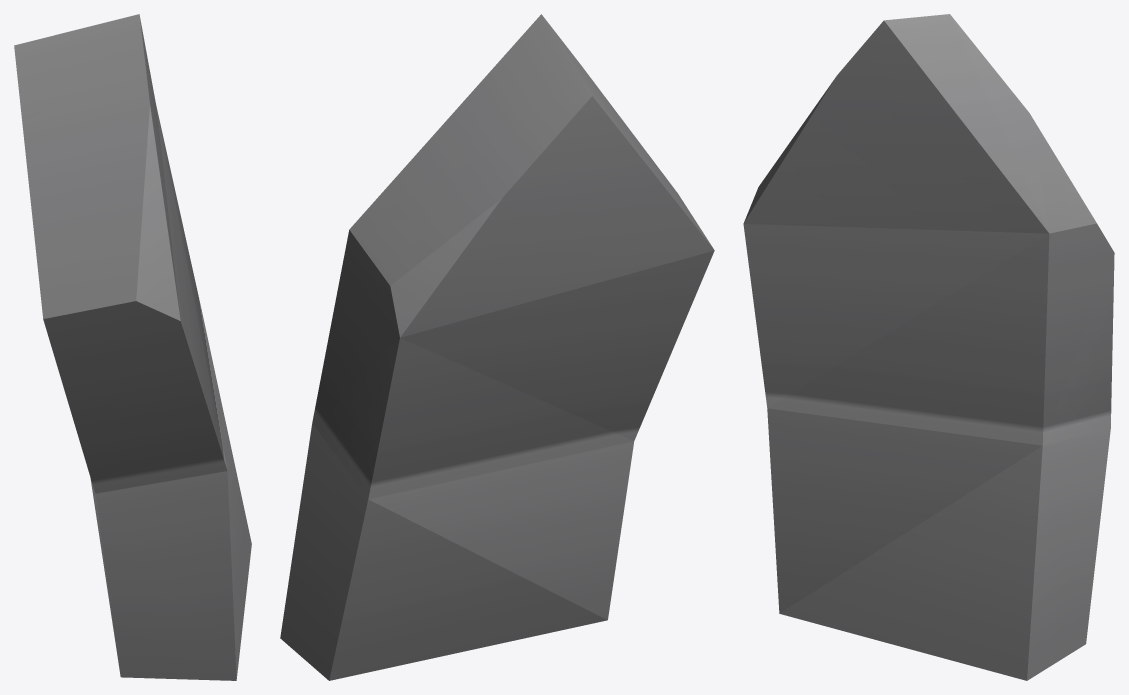
Rendered from ea_grave_stone_mini_01c_pre__7__lev1.glb.
3 renders of one model, left to right at view 1: azimuth 30°, elevation 25°; view 2: azimuth 150°, elevation 25°; view 3: azimuth 270°, elevation 25°, orthographic. The views are drawn at different scales.
Visible parts, largest first — view 1: ea_grave_stone_mini_01c_pre__7__lev1; view 2: ea_grave_stone_mini_01c_pre__7__lev1; view 3: ea_grave_stone_mini_01c_pre__7__lev1.
Part boxes in pixels (x1,y1,x2,y2): ea_grave_stone_mini_01c_pre__7__lev1: (14, 14, 251, 680); ea_grave_stone_mini_01c_pre__7__lev1: (280, 14, 714, 680); ea_grave_stone_mini_01c_pre__7__lev1: (743, 14, 1114, 680).
Bounding box in the file's own units: 0.3793 × 0.6991 × 0.4082.
Materials: 1 (1 with a texture image).
